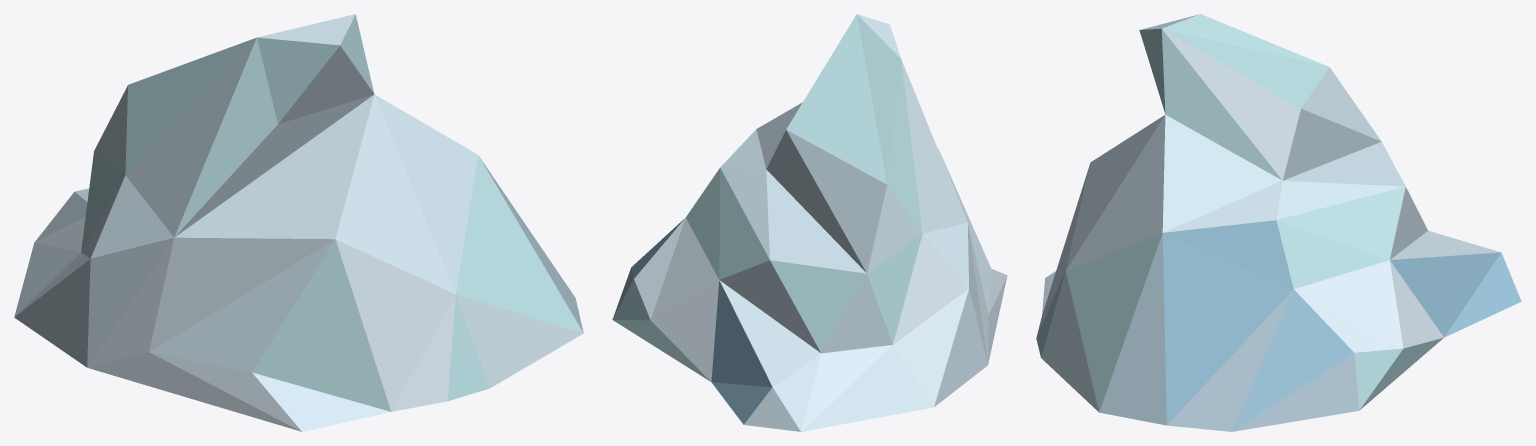
The model's file is Iceberg 1.fbx.
3 renders of one model, left to right at view 1: azimuth 30°, elevation 25°; view 2: azimuth 150°, elevation 25°; view 3: azimuth 270°, elevation 25°, orthographic. The views are drawn at different scales.
Visible parts, largest first — view 1: Iceberg 1; view 2: Iceberg 1; view 3: Iceberg 1.
Boxes of the visible parts, x1,y1,x2,y2 form: Iceberg 1: [14, 14, 583, 431]; Iceberg 1: [612, 14, 1007, 431]; Iceberg 1: [1036, 14, 1521, 431].
Bounding box in the file's own units: 7342 × 5241 × 7664.
